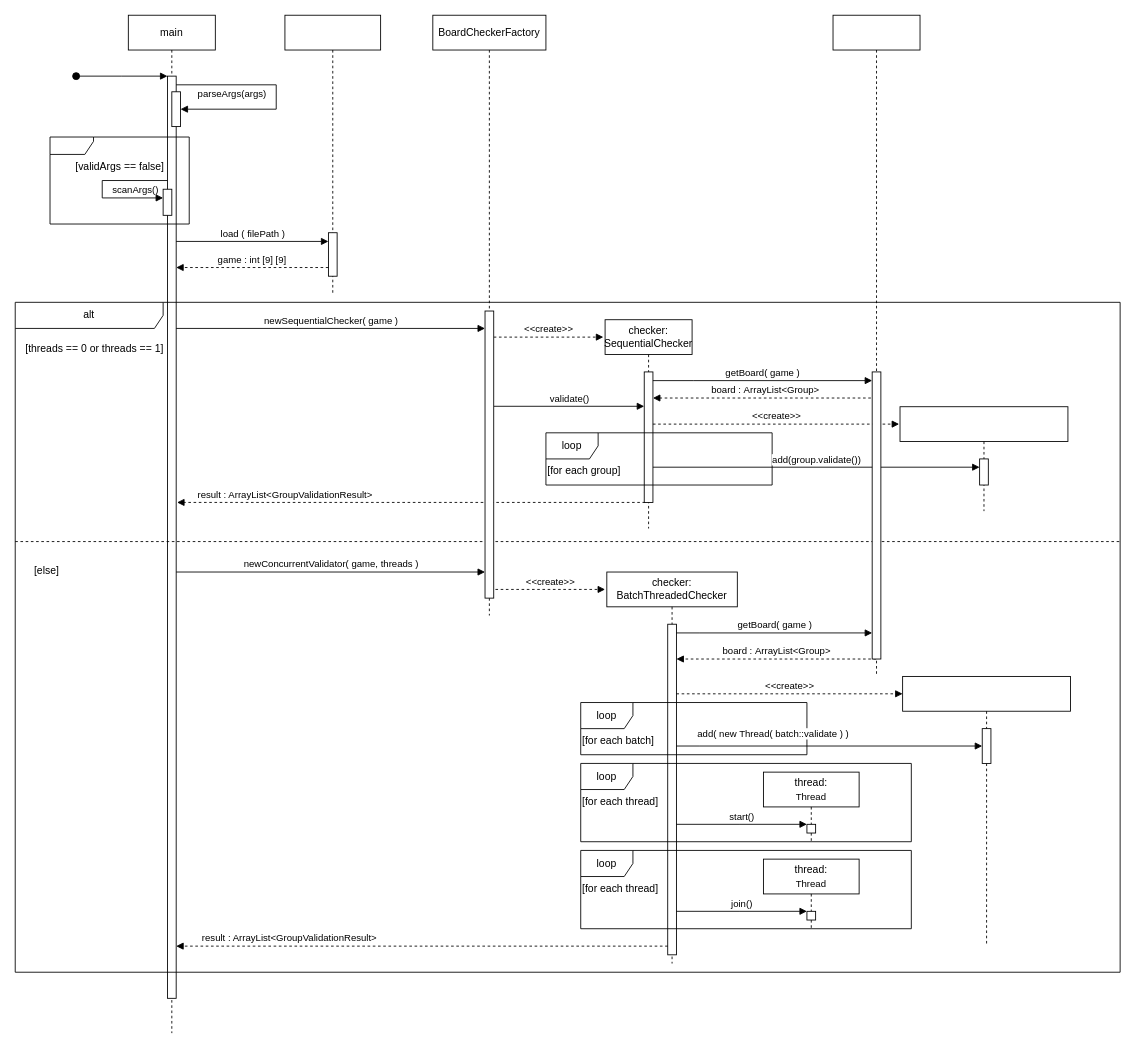
The diagram is 1135 pixels wide and 1048 high, and some of its shapes have lost their labels. Here are the shapes that lost their labels. From the top down, the box of each, then its label:
(284, 14, 381, 294): loader :CsvSudokuLoader
(49, 136, 189, 224): opt
(832, 14, 920, 676): GroupFactory
(899, 406, 1068, 511): results: ArrayList<GroupValidationResult>
(902, 676, 1071, 946): threads: ArrayList<Thread>
